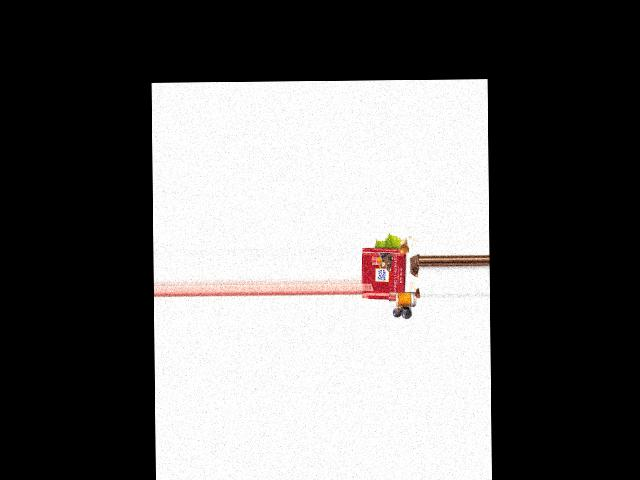chocolate: (362, 245, 406, 298)
